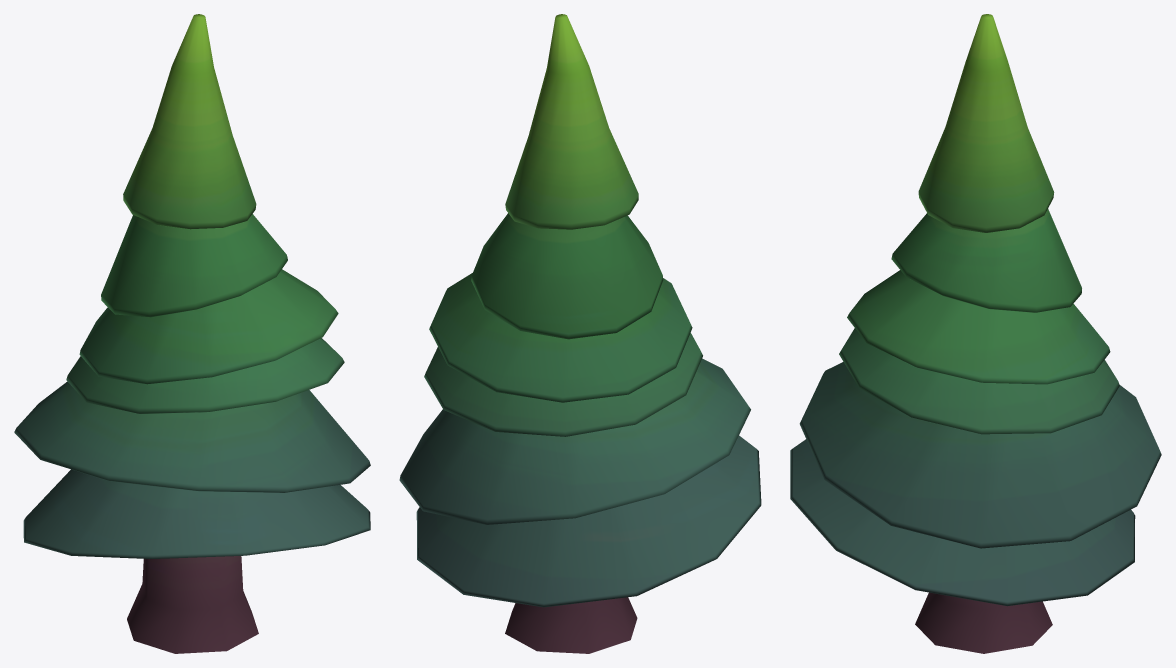
File: Tree_11.fbx
3 renders of one model, left to right at view 1: azimuth 30°, elevation 25°; view 2: azimuth 150°, elevation 25°; view 3: azimuth 270°, elevation 25°, orthographic.
Visible parts, largest first — view 1: Tree_11; view 2: Tree_11; view 3: Tree_11.
Boxes of the visible parts, x1,y1,x2,y2 form: Tree_11: (14,14,370,653); Tree_11: (399,14,761,653); Tree_11: (790,14,1161,653).
Size of the model in its own units: 203 by 384 by 211.
